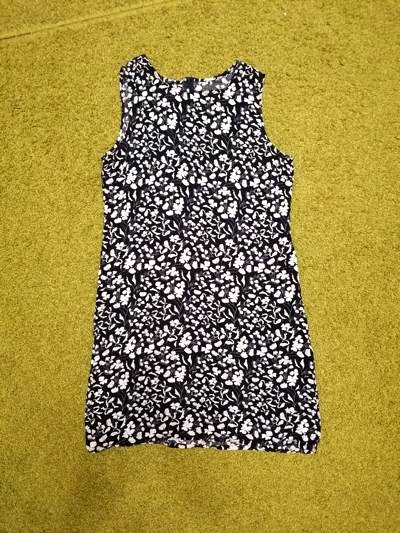Dress: (66, 64, 340, 474)
